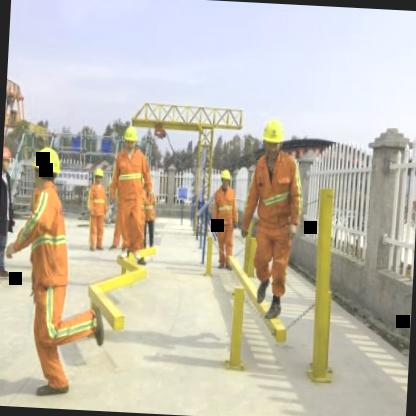helmet: (30, 144, 62, 188), (258, 114, 287, 161), (121, 124, 137, 154), (218, 166, 232, 192), (1, 142, 12, 173), (93, 164, 104, 184)
